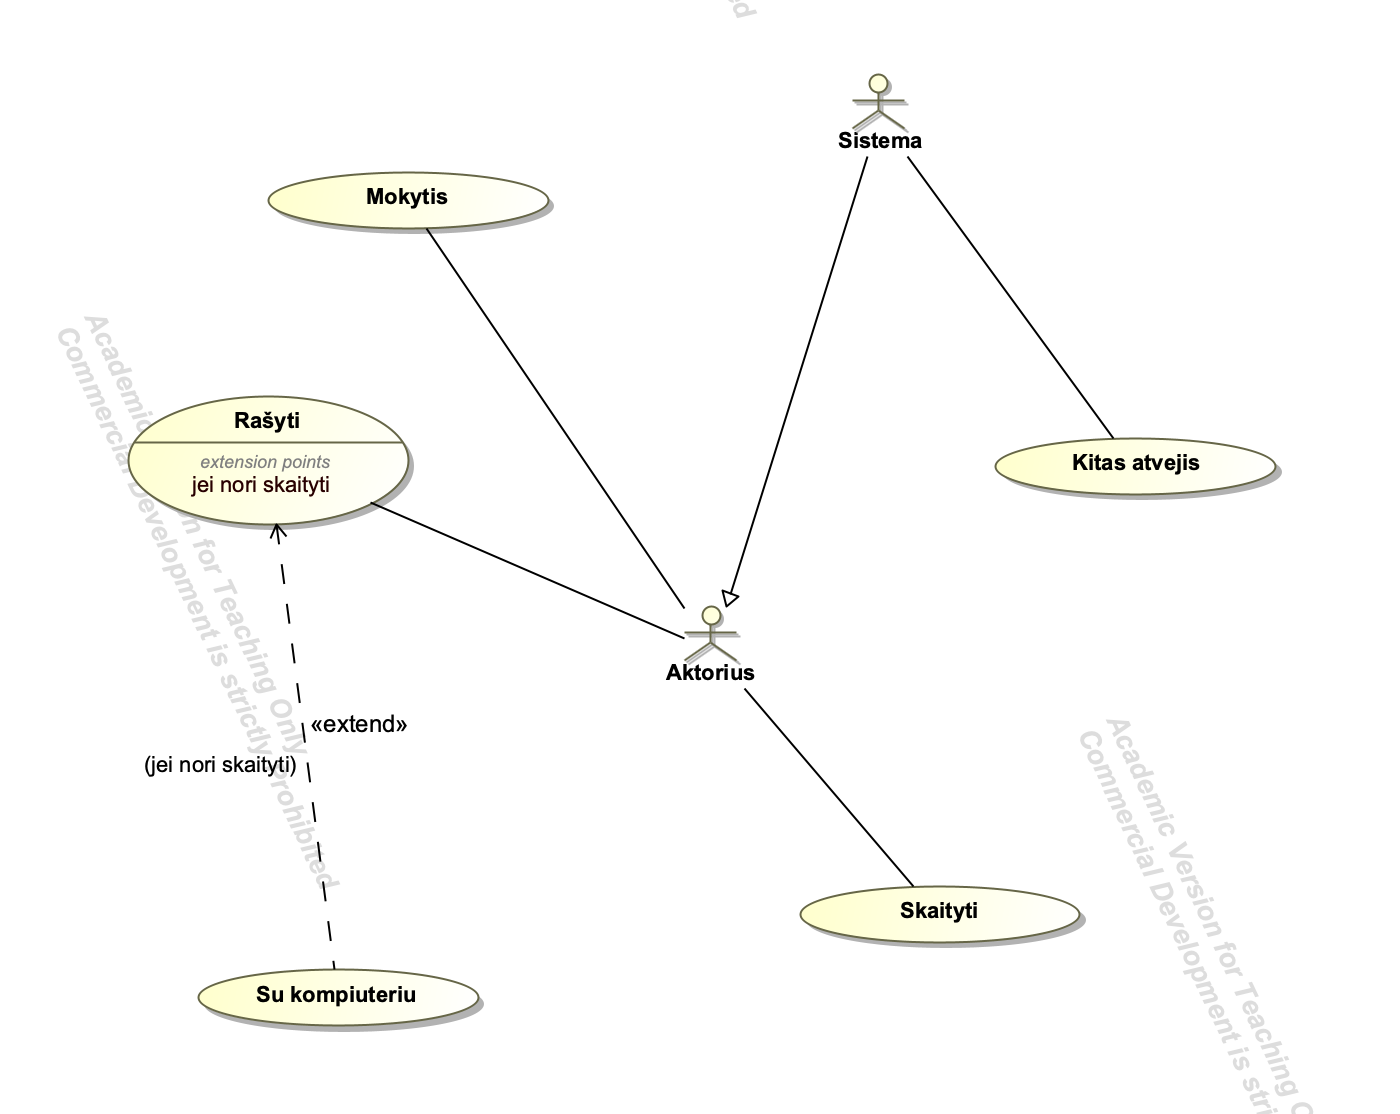actor: (850, 67, 903, 134), (686, 604, 739, 664)
association: (430, 230, 681, 601), (905, 155, 1110, 437), (378, 504, 683, 640), (741, 691, 916, 886), (268, 523, 342, 965)
generalization: (720, 156, 869, 608)
text: (131, 738, 303, 787), (173, 452, 343, 501), (249, 982, 423, 1011), (1066, 447, 1205, 477), (889, 891, 988, 931), (649, 658, 767, 688), (309, 710, 411, 743), (351, 182, 456, 214), (230, 404, 306, 438), (838, 131, 928, 157)
use_case: (126, 392, 413, 531), (195, 965, 484, 1033), (795, 882, 1083, 948), (265, 169, 555, 233), (990, 435, 1280, 499)
